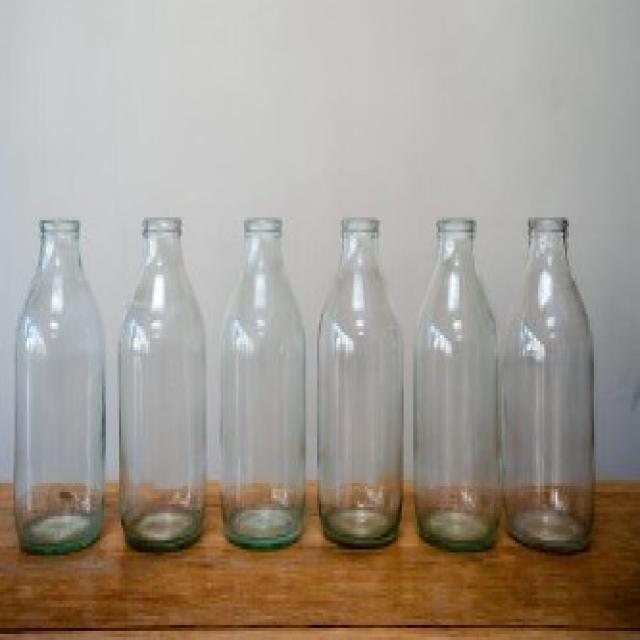electronic: (18, 216, 593, 552)
